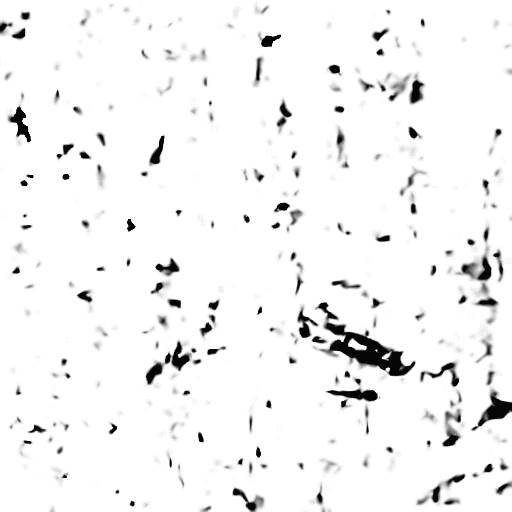egg: (14, 107, 29, 141), (262, 35, 280, 46)
